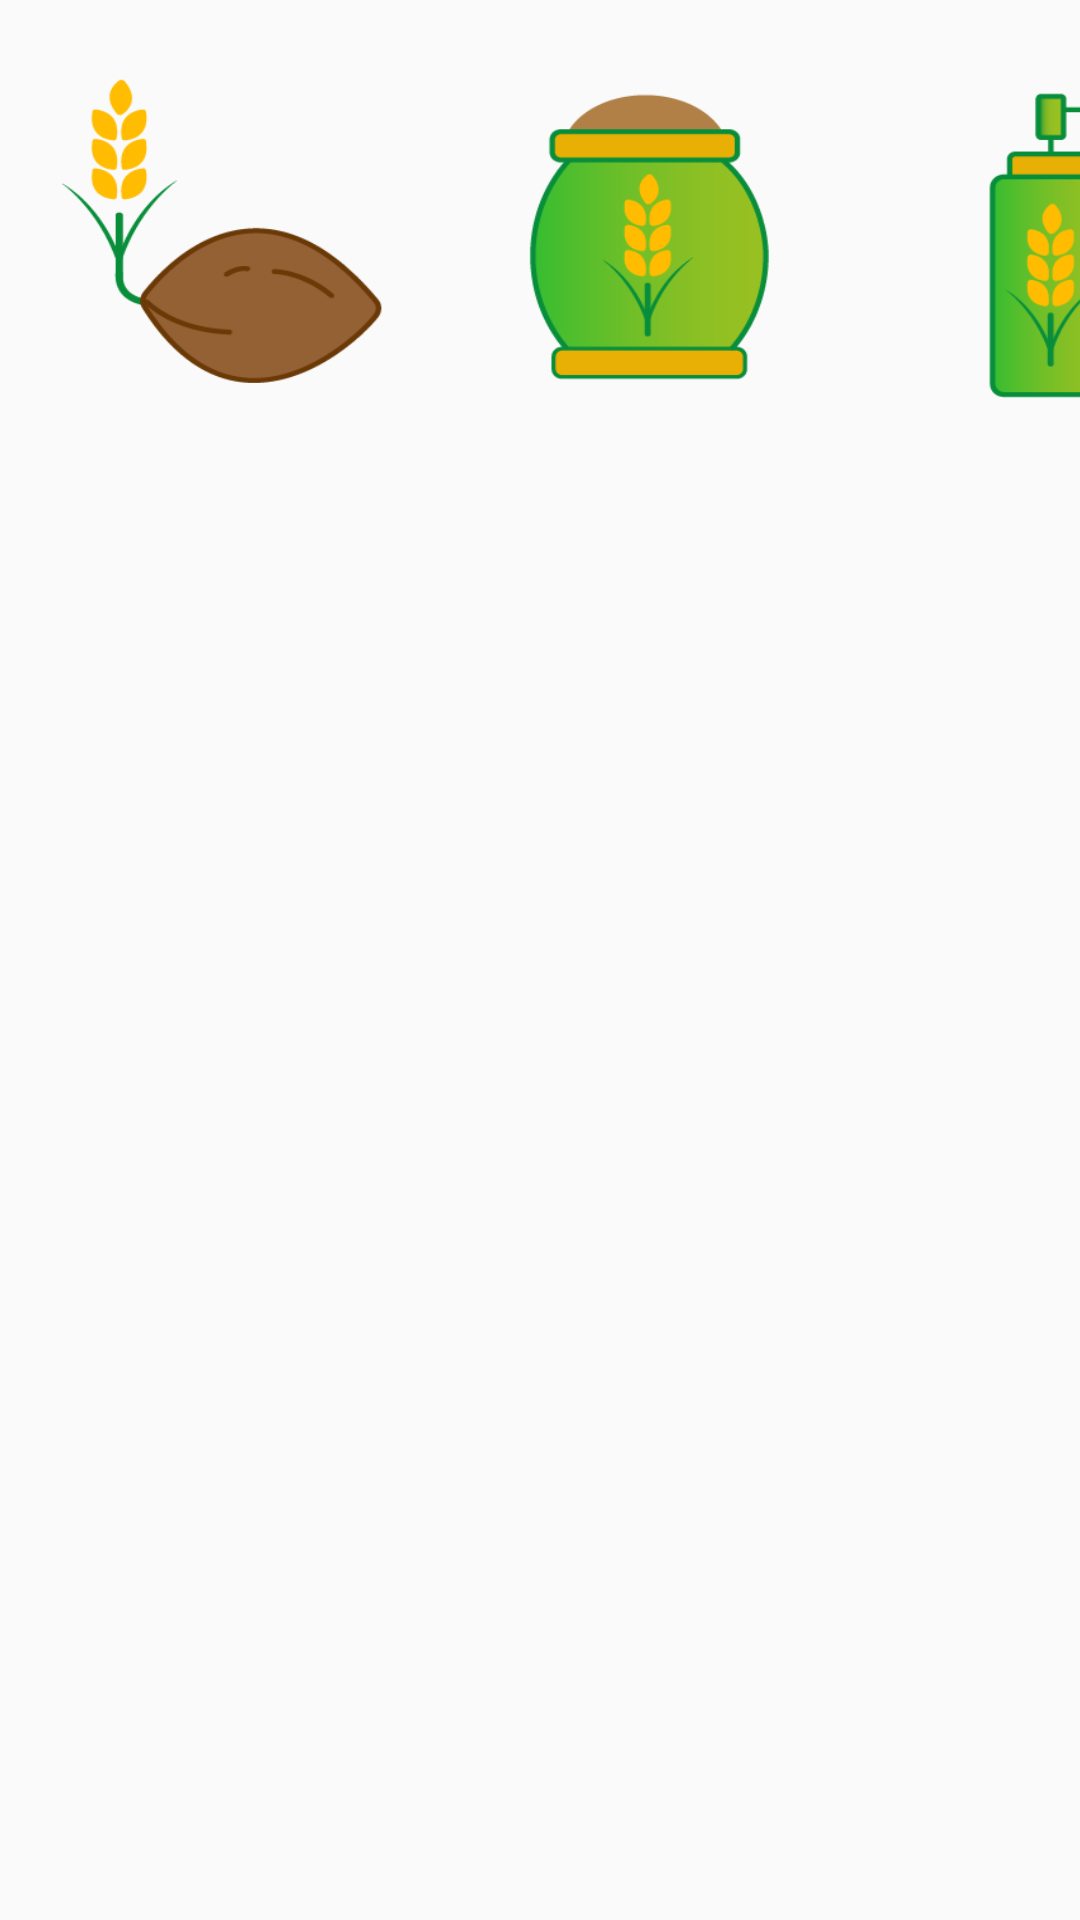

Point at icon controls on the screen. Image size 1080w x 1920h, points as (x,y).
seed: (222,231)
